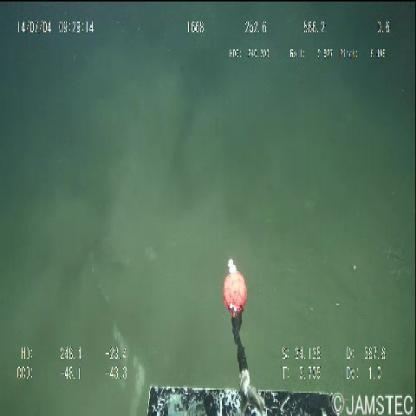Rác: (87, 253, 147, 415)
